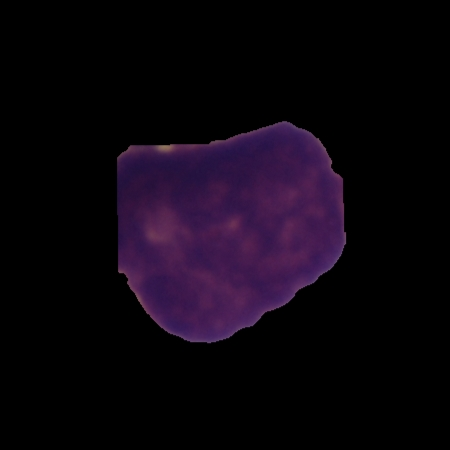ALL: (111, 117, 350, 346)
